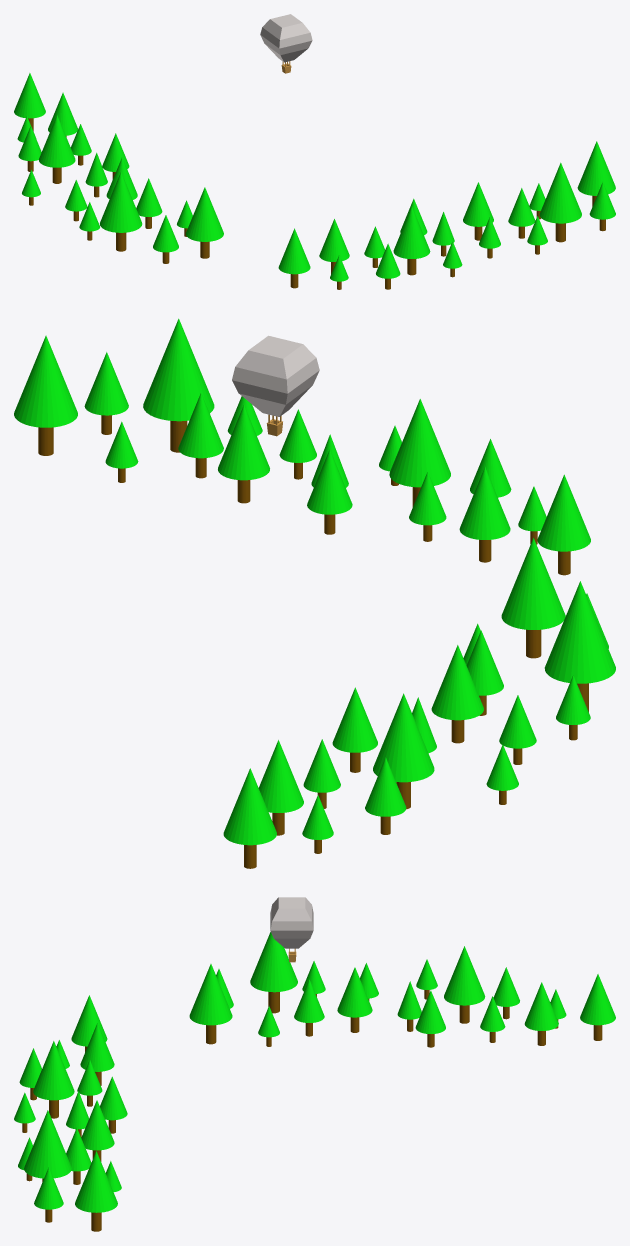
File: yahaba_sousyoku.glb
3 views of the same model, one above another, from view 1: azimuth 30°, elevation 25°; view 2: azimuth 150°, elevation 25°; view 3: azimuth 270°, elevation 25° (orthographic). The views are drawn at different scales.
Visible parts, largest first — view 1: 立方体.037, 円錐.029, 円錐.012, 円錐.033, 円錐.016, 円錐.022, 円錐.005, 円錐, 円錐.018, 円錐.010, 円錐.002, 円錐.013 (+14 smaller); view 2: 立方体.037, 円錐.029, 円錐.012, 円錐.016, 円錐.033, 円錐.005, 円錐.022, 円錐, 円錐.018, 円錐.027, 円錐.010, 円錐.002 (+17 smaller); view 3: 立方体.037, 円錐.012, 円錐.029, 円錐.016, 円錐.033, 円錐.005, 円錐.022, 円錐.018, 円錐.027, 円錐.010, 円錐.019, 円錐.002 (+12 smaller).
Part boxes in pixels (x1,y1,x2,y2): 立方体.037: (260,14,312,62); 円錐.029: (100,172,142,232); 円錐.012: (539,162,581,223); 円錐.033: (186,187,223,241); 円錐.016: (577,141,615,195); 円錐.022: (39,115,75,167); 円錐.005: (393,206,430,258); 円錐: (278,228,310,288); 円錐.018: (14,73,45,131); 円錐.010: (463,182,493,226); 円錐.002: (319,219,349,261); 円錐.013: (508,188,535,226); 立方体.037: (232,335,319,416); 円錐.029: (544,581,615,683); 円錐.012: (143,318,214,421); 円錐.016: (14,335,77,427); 円錐.033: (501,538,565,629); 円錐.005: (389,399,450,487); 円錐.022: (373,693,434,782); 円錐: (537,474,590,575); 円錐.018: (223,768,276,868); 円錐.027: (431,645,483,720); 円錐.010: (218,405,269,480); 円錐.002: (459,467,510,539); 立方体.037: (270,897,313,948); 円錐.012: (24,1110,71,1178); 円錐.029: (250,932,297,992); 円錐.016: (75,1151,117,1212); 円錐.033: (189,964,232,1025); 円錐.005: (33,1041,74,1100); 円錐.022: (444,946,485,1005); 円錐.018: (580,974,615,1040); 円錐.027: (337,967,372,1017); 円錐.010: (81,1100,114,1150); 円錐.019: (524,982,558,1030); 円錐.002: (80,1023,114,1071).
Bounding box in the file's own units: 40.97 × 15.97 × 42.76.
Materials: 4 (4 with a texture image).
